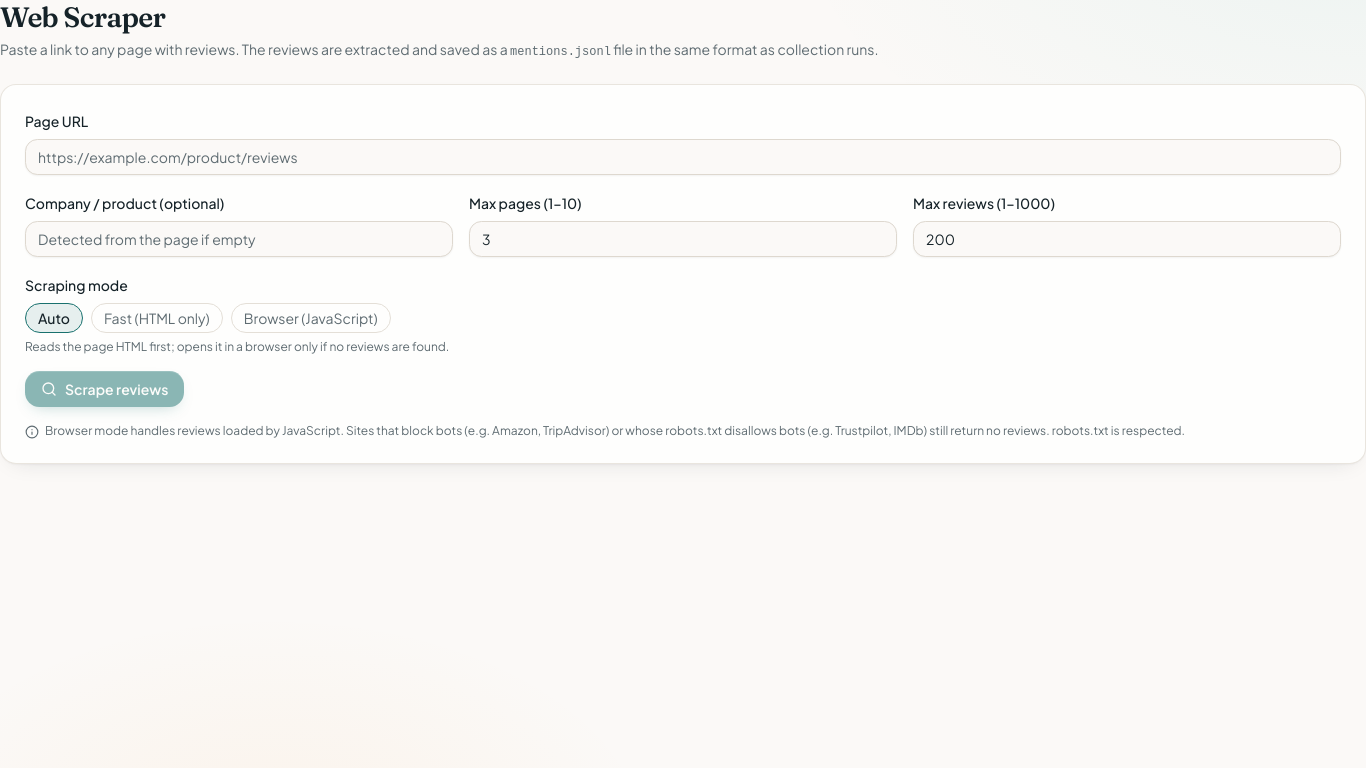
Test: Web Scraper page › sends the chosen mode and shows how the page was read
Click the radio button with test id "scrape-mode-browser". click: click(311, 318)
box: [231,303,391,333]
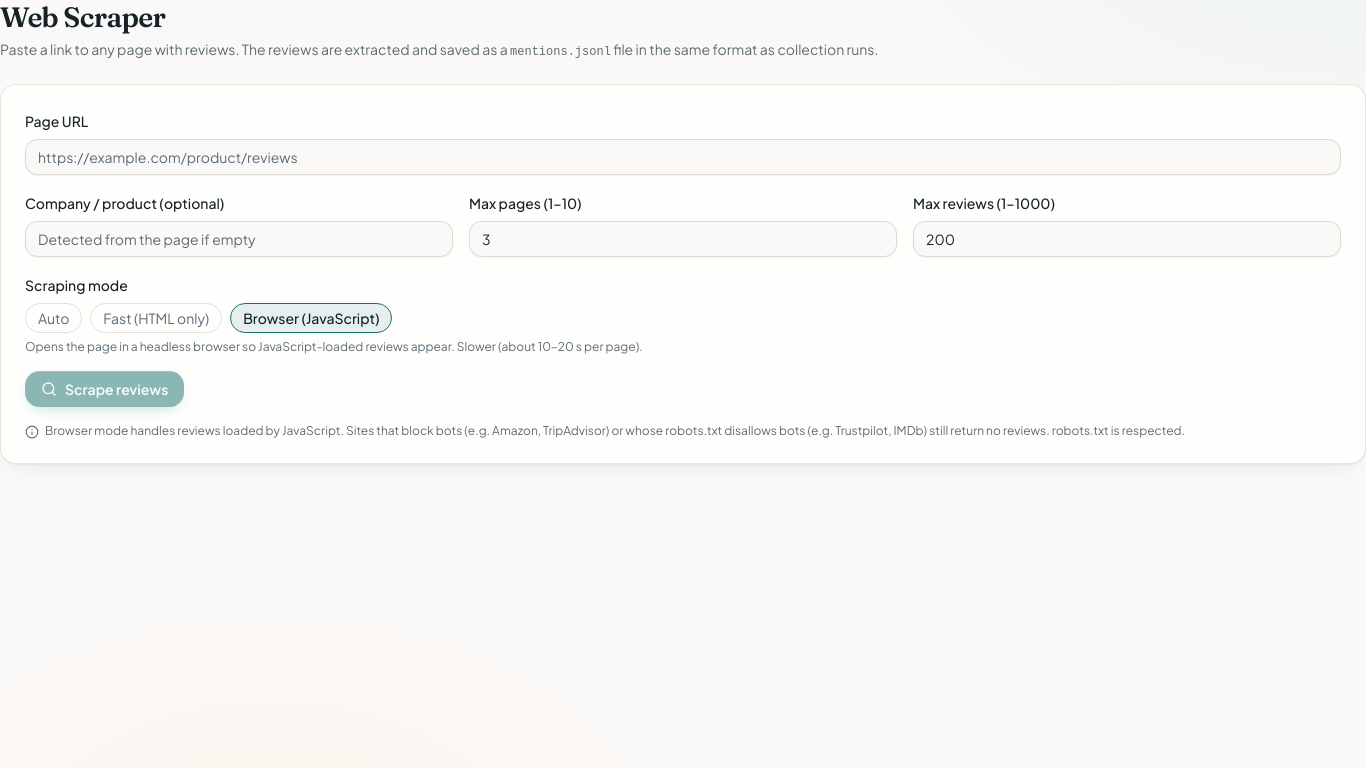
Result: the text with test id "scrape-mode-help" shows "headless browser" at [25,339,643,354]
Type "https://shop.example/item" into the field with test id "scrape-url". click: (683, 157)
box: [25,139,1341,175]
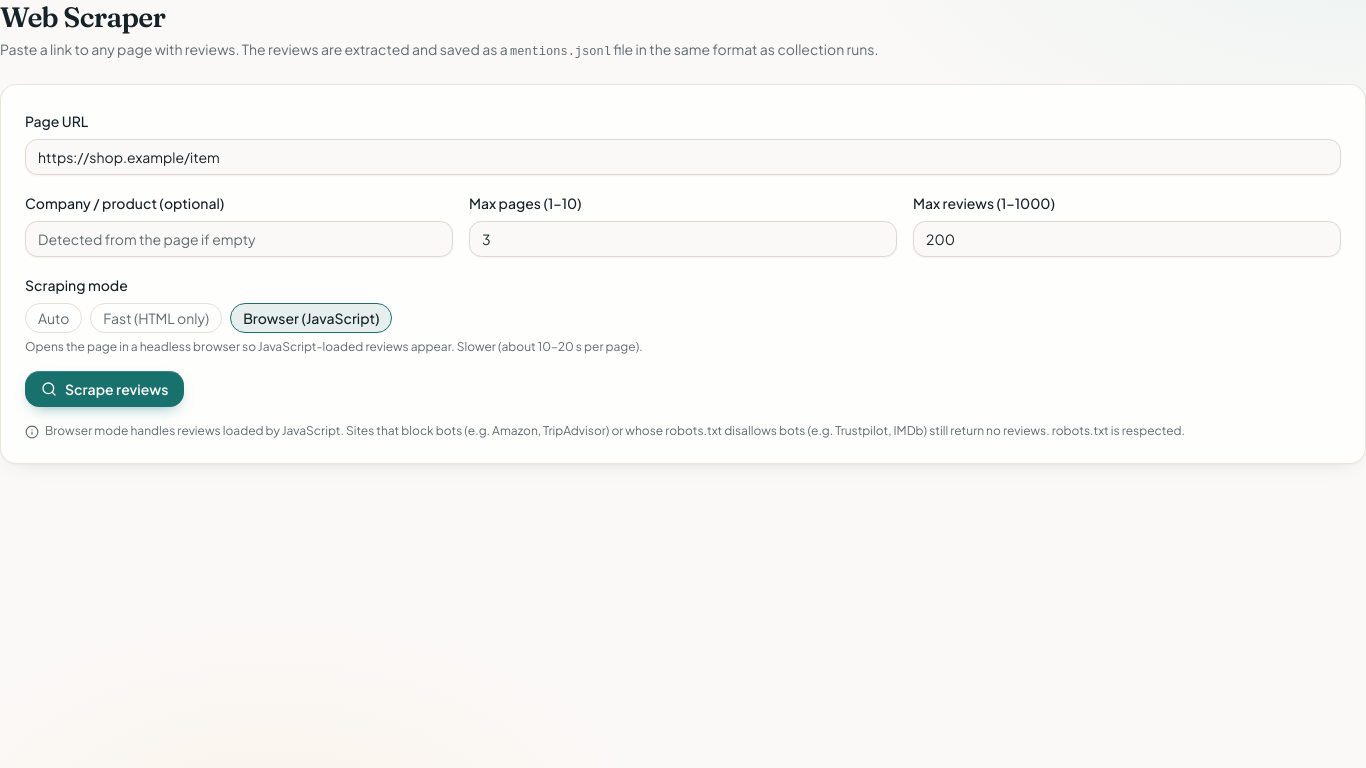
Click the button with test id "scrape-submit". click: click(105, 389)
box: [25,371,184,407]
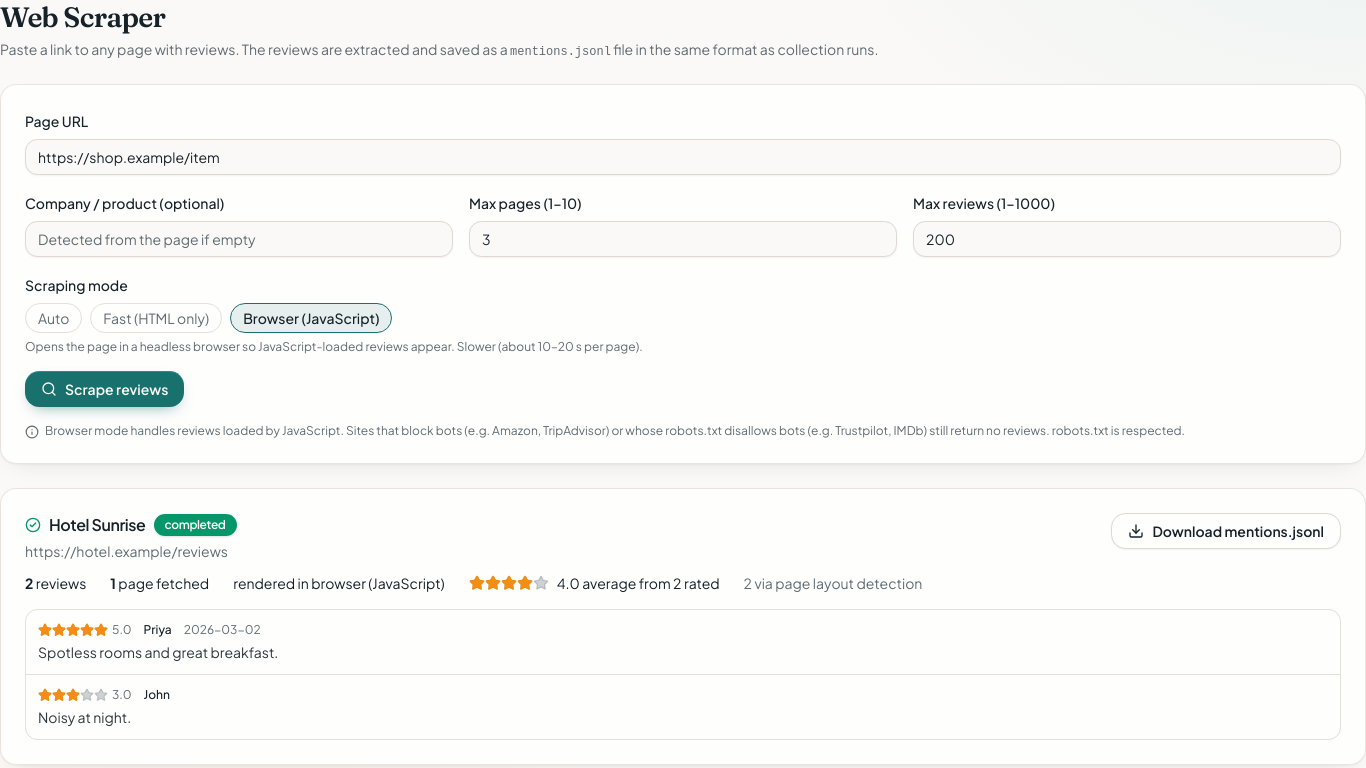
Result: the text with test id "scrape-mode-used" shows "rendered in browser" at [233,574,445,592]
